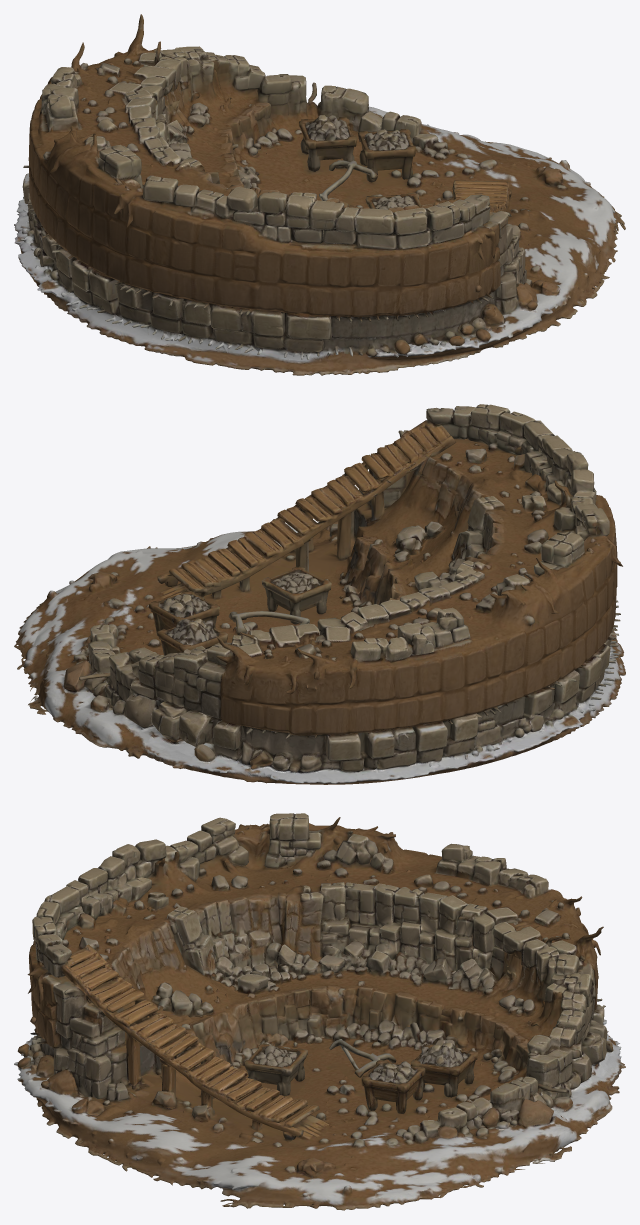
Rendered from tripo_convert_5f3445fc-ddce-4217-b617-deed48478131.fbx.
3 renders of one model, top to bottom at view 1: azimuth 30°, elevation 25°; view 2: azimuth 150°, elevation 25°; view 3: azimuth 270°, elevation 25°, orthographic. The views are drawn at different scales.
Parts seen in each view (by area): view 1: tripo_node_5f3445fc; view 2: tripo_node_5f3445fc; view 3: tripo_node_5f3445fc.
Part boxes in pixels (<box>): tripo_node_5f3445fc: <box>14,14,625,375</box>; tripo_node_5f3445fc: <box>14,404,625,784</box>; tripo_node_5f3445fc: <box>14,813,625,1210</box>.
Size of the model in its own units: 0.9776 by 0.2978 by 0.9837.
1 material, 1 textured.
